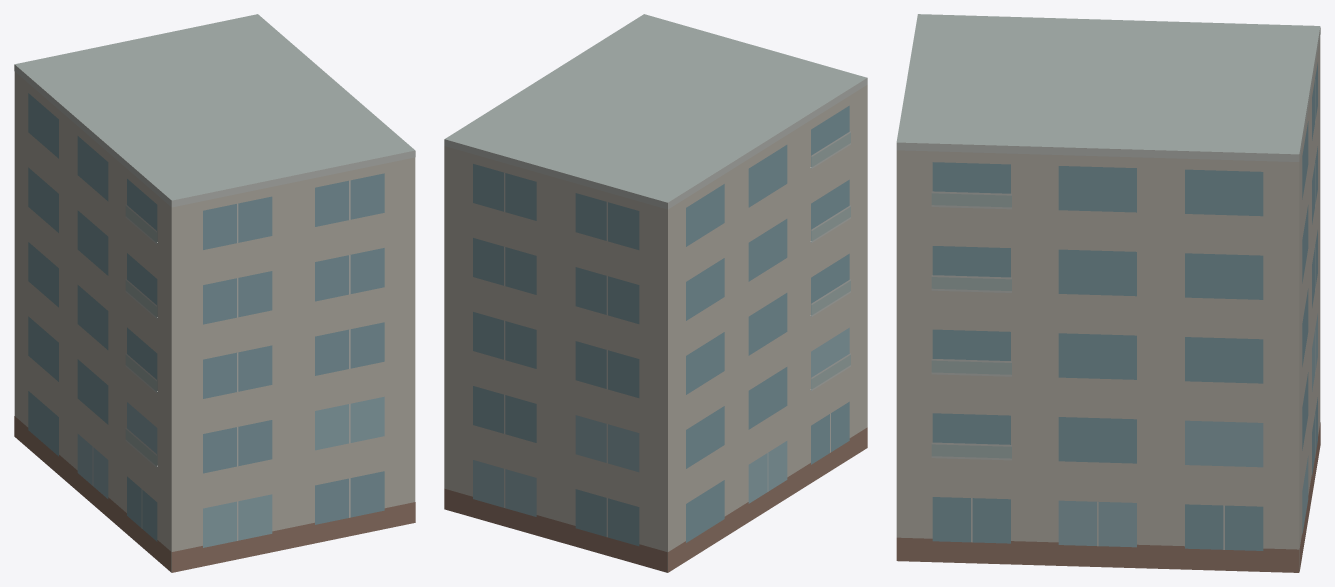
Rendered from survey-upis-32578876.glb.
The picture shows the model from 3 angles, left to right: view 1: azimuth 30°, elevation 25°; view 2: azimuth 150°, elevation 25°; view 3: azimuth 270°, elevation 25°; orthographic projection. The views are drawn at different scales.
Visible parts, largest first — view 1: survey-upis-32578876.tmp; view 2: survey-upis-32578876.tmp; view 3: survey-upis-32578876.tmp.
Part boxes in pixels (x1,y1,x2,y2): survey-upis-32578876.tmp: [14, 14, 415, 572]; survey-upis-32578876.tmp: [444, 14, 867, 572]; survey-upis-32578876.tmp: [896, 14, 1320, 572].
Bounding box in the file's own units: 9.5 × 13.2 × 12.13.
